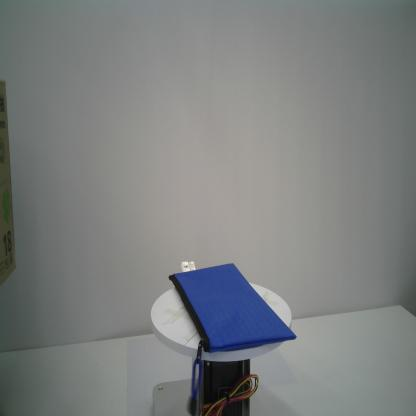Stationery: (168, 258, 298, 416)
